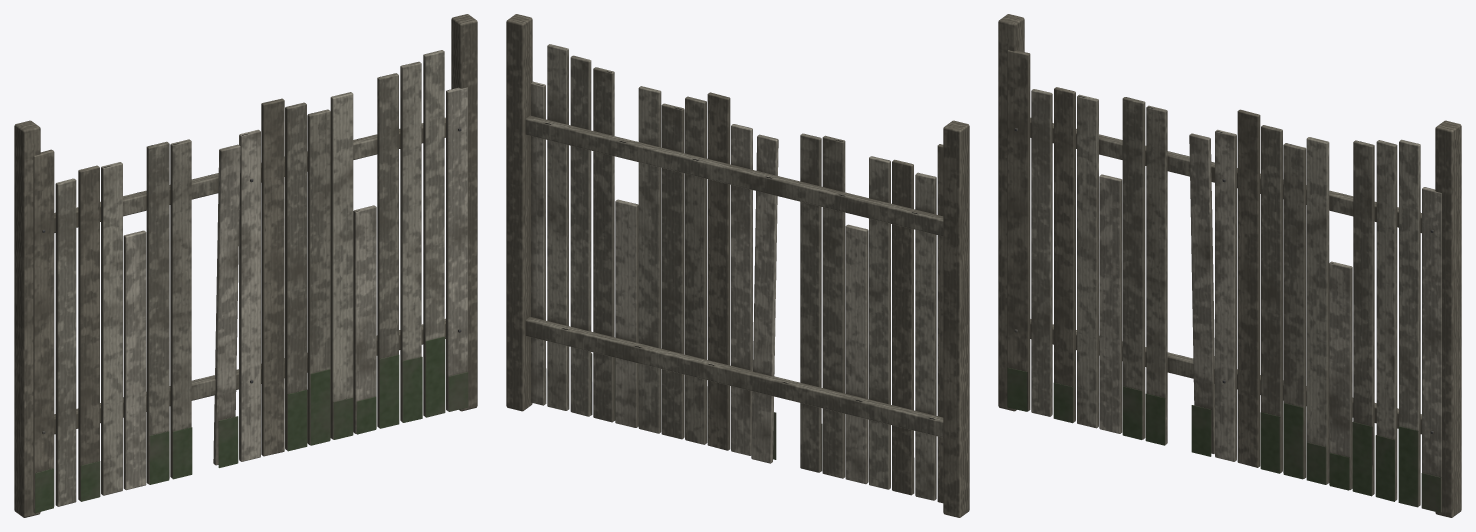
File: plot_deski_a.glb
3 views of the same model, side by side, from view 1: azimuth 30°, elevation 25°; view 2: azimuth 150°, elevation 25°; view 3: azimuth 330°, elevation 25° (orthographic).
Parts seen in each view (by area): view 1: Plot; view 2: Plot; view 3: Plot.
Boxes of the visible parts, x1=… form: Plot: x1=14, y1=14, x2=477, y2=517; Plot: x1=506, y1=14, x2=969, y2=517; Plot: x1=998, y1=14, x2=1461, y2=517.
Bounding box in the file's own units: 2.6 × 2.12 × 0.1314.
Materials: 1 (1 with a texture image).
